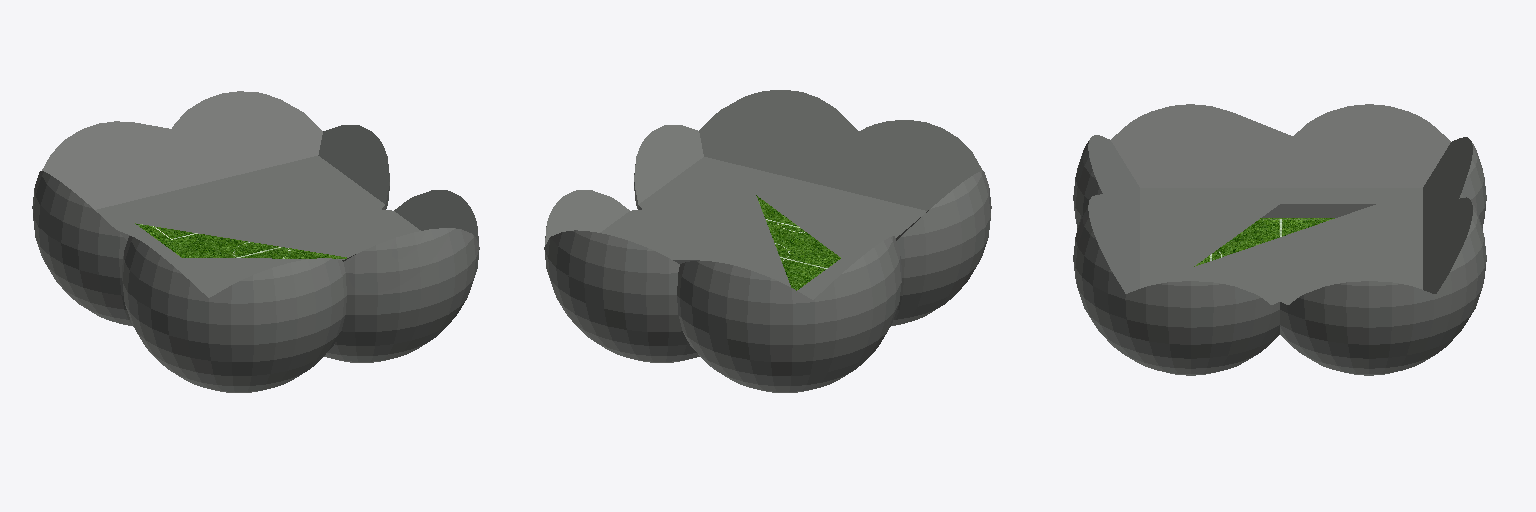
3 views of the same model, side by side, from view 1: azimuth 30°, elevation 25°; view 2: azimuth 150°, elevation 25°; view 3: azimuth 270°, elevation 25° (orthographic).
Visible parts, largest first — view 1: Sphere.001_Sphere.002; view 2: Sphere.001_Sphere.002; view 3: Sphere.001_Sphere.002.
Part boxes in pixels (x1,y1,x2,y2): Sphere.001_Sphere.002: (32, 91, 479, 392); Sphere.001_Sphere.002: (544, 90, 991, 392); Sphere.001_Sphere.002: (1073, 104, 1486, 375).
Bounding box in the file's own units: 22.72 × 10.45 × 24.89.
1 materials, 1 textured.